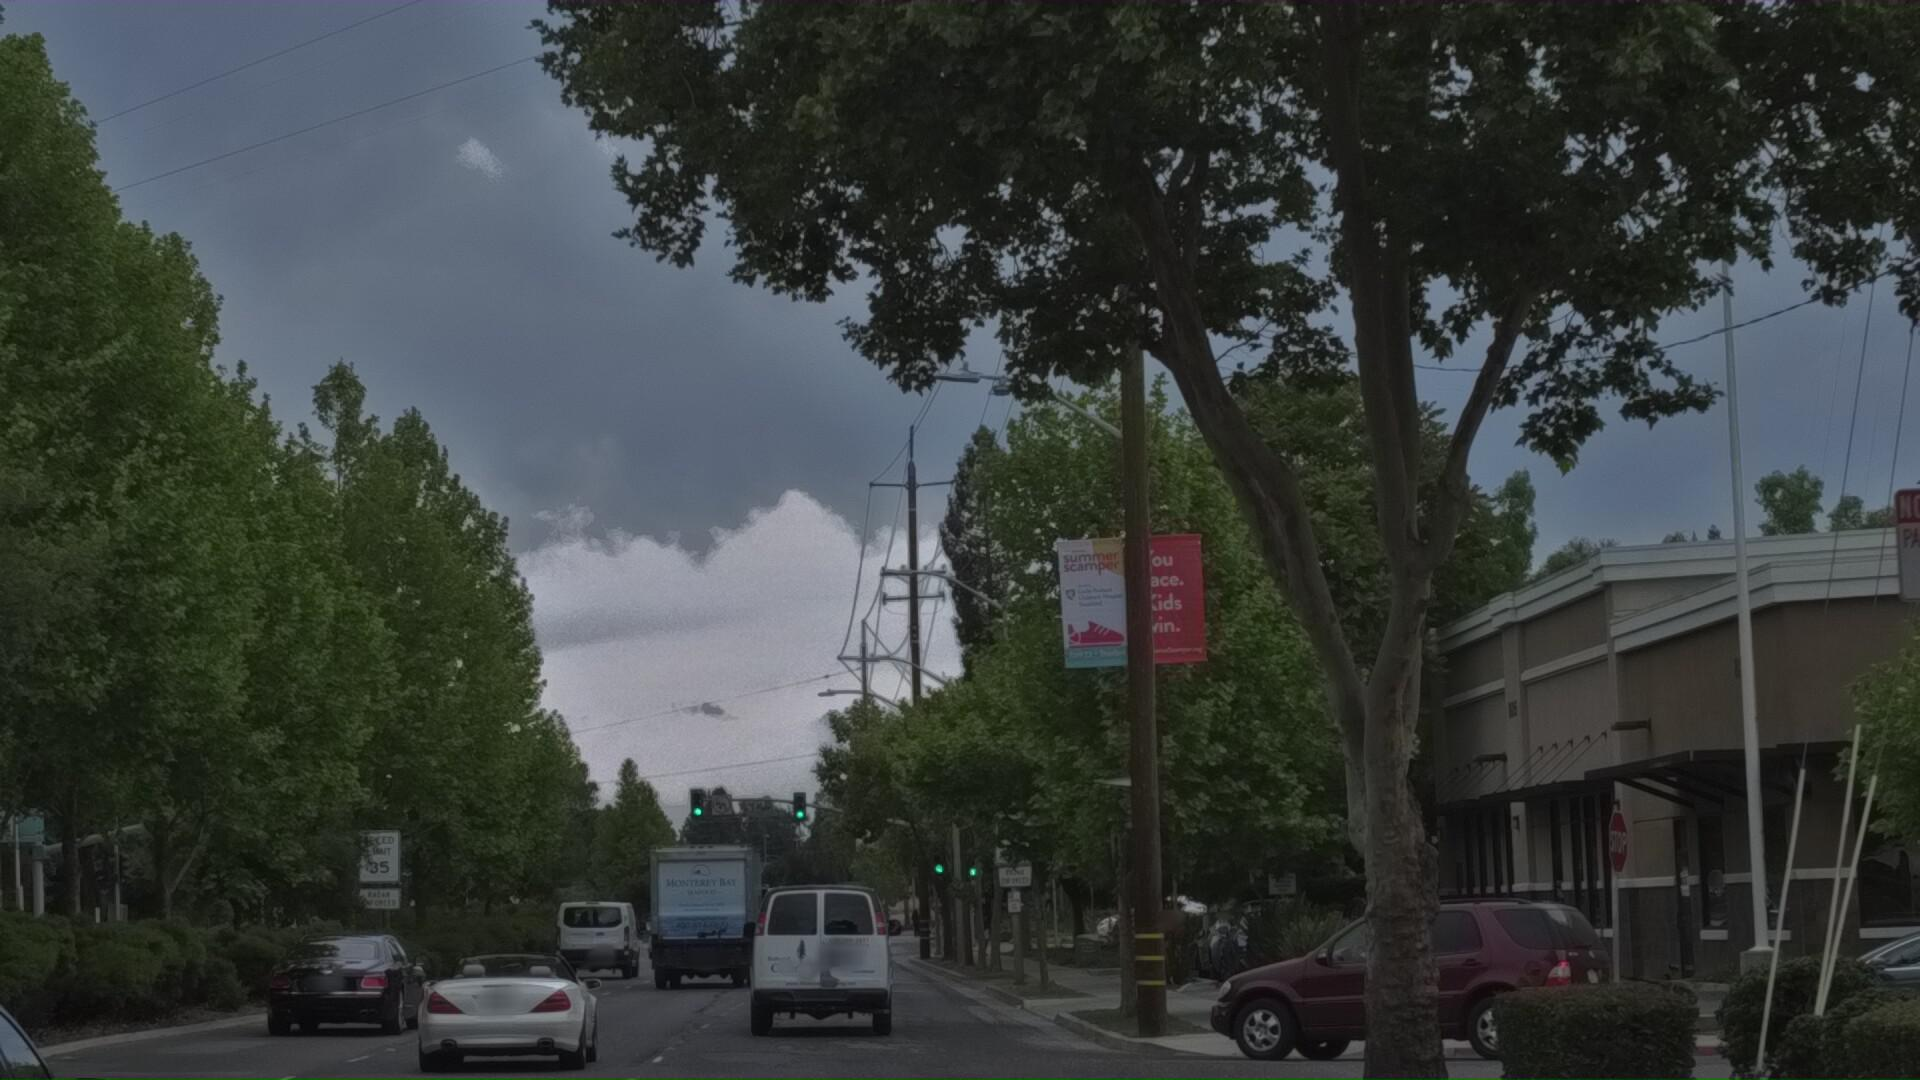car: (1182, 901, 1659, 1080), (1695, 916, 1920, 1080), (410, 976, 634, 1080), (0, 947, 165, 1080)
truck: (745, 902, 923, 1080), (630, 866, 785, 1033), (253, 953, 444, 1080)
